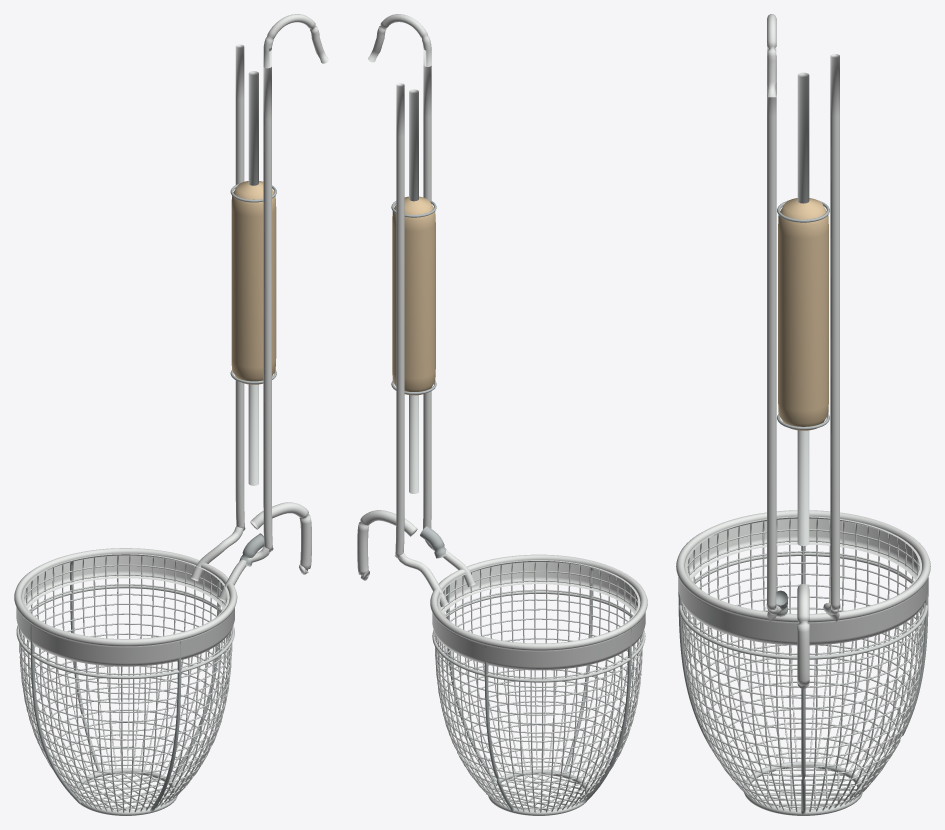
Rendered from PROP_noodle_blanching_strainer_v002_GAME.glb.
3 renders of one model, left to right at view 1: azimuth 30°, elevation 25°; view 2: azimuth 150°, elevation 25°; view 3: azimuth 270°, elevation 25°, orthographic. The views are drawn at different scales.
Parts seen in each view (by area): view 1: BASKET_WOVEN_WARP, BASKET_WOVEN_WEFT, BASKET_RIM_STEEL_COLLAR, HANDLE_VERTICAL_STEEL_RODS, HANDLE_HARDWOOD_GRIP, BASKET_ROLLED_RIM, BASKET_FRAME_RIBS, HANDLE_INTERNAL_SPINDLE, BASKET_REINFORCING_RING, BASKET_BOTTOM_WEAVE, HANDLE_POT_RIM_HOOK, HANDLE_TOP_STORAGE_HOOK (+1 smaller); view 2: BASKET_WOVEN_WARP, BASKET_WOVEN_WEFT, BASKET_RIM_STEEL_COLLAR, HANDLE_VERTICAL_STEEL_RODS, HANDLE_HARDWOOD_GRIP, BASKET_ROLLED_RIM, BASKET_FRAME_RIBS, HANDLE_INTERNAL_SPINDLE, BASKET_REINFORCING_RING, HANDLE_POT_RIM_HOOK, BASKET_BOTTOM_WEAVE, HANDLE_TOP_STORAGE_HOOK (+1 smaller); view 3: BASKET_WOVEN_WARP, BASKET_WOVEN_WEFT, HANDLE_HARDWOOD_GRIP, HANDLE_VERTICAL_STEEL_RODS, BASKET_RIM_STEEL_COLLAR, BASKET_ROLLED_RIM, HANDLE_INTERNAL_SPINDLE, BASKET_REINFORCING_RING, BASKET_FRAME_RIBS, BASKET_BOTTOM_WEAVE, BASKET_BOTTOM_RING, HANDLE_POT_RIM_HOOK (+2 smaller).
Part boxes in pixels (x1,y1,x2,y2): BASKET_WOVEN_WARP: (18, 555, 232, 812); BASKET_WOVEN_WEFT: (19, 564, 232, 809); BASKET_RIM_STEEL_COLLAR: (16, 553, 234, 666); HANDLE_VERTICAL_STEEL_RODS: (191, 44, 273, 601); HANDLE_HARDWOOD_GRIP: (231, 181, 276, 384); BASKET_ROLLED_RIM: (14, 548, 237, 646); BASKET_FRAME_RIBS: (30, 561, 220, 811); HANDLE_INTERNAL_SPINDLE: (248, 71, 258, 485); BASKET_REINFORCING_RING: (16, 585, 234, 679); BASKET_BOTTOM_WEAVE: (78, 772, 172, 810); HANDLE_POT_RIM_HOOK: (250, 502, 311, 574); HANDLE_TOP_STORAGE_HOOK: (263, 14, 328, 68); BASKET_WOVEN_WARP: (434, 562, 643, 812); BASKET_WOVEN_WEFT: (435, 570, 642, 809); BASKET_RIM_STEEL_COLLAR: (432, 560, 645, 670); HANDLE_VERTICAL_STEEL_RODS: (395, 65, 475, 606); HANDLE_HARDWOOD_GRIP: (392, 196, 435, 395); BASKET_ROLLED_RIM: (430, 554, 647, 650); BASKET_FRAME_RIBS: (446, 567, 631, 811); HANDLE_INTERNAL_SPINDLE: (409, 89, 418, 493); BASKET_REINFORCING_RING: (432, 591, 645, 682); HANDLE_POT_RIM_HOOK: (357, 510, 417, 580); BASKET_BOTTOM_WEAVE: (493, 773, 584, 810); HANDLE_TOP_STORAGE_HOOK: (368, 14, 431, 66); BASKET_WOVEN_WARP: (682, 519, 924, 811); BASKET_WOVEN_WEFT: (681, 529, 925, 808); HANDLE_HARDWOOD_GRIP: (778, 198, 828, 430); HANDLE_VERTICAL_STEEL_RODS: (766, 54, 840, 621); BASKET_RIM_STEEL_COLLAR: (678, 516, 928, 645); BASKET_ROLLED_RIM: (676, 510, 930, 622); HANDLE_INTERNAL_SPINDLE: (797, 72, 809, 546); BASKET_REINFORCING_RING: (678, 552, 928, 659); BASKET_FRAME_RIBS: (678, 546, 928, 814); BASKET_BOTTOM_WEAVE: (750, 768, 856, 809); BASKET_BOTTOM_RING: (744, 761, 862, 815); HANDLE_POT_RIM_HOOK: (797, 583, 809, 688).
Size of the model in its own units: 0.2137 by 0.5387 by 0.1448.
